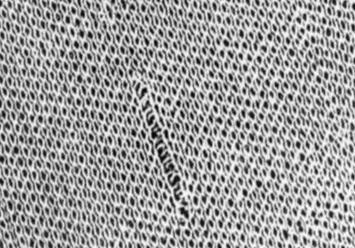slub: (133, 77, 196, 221)
